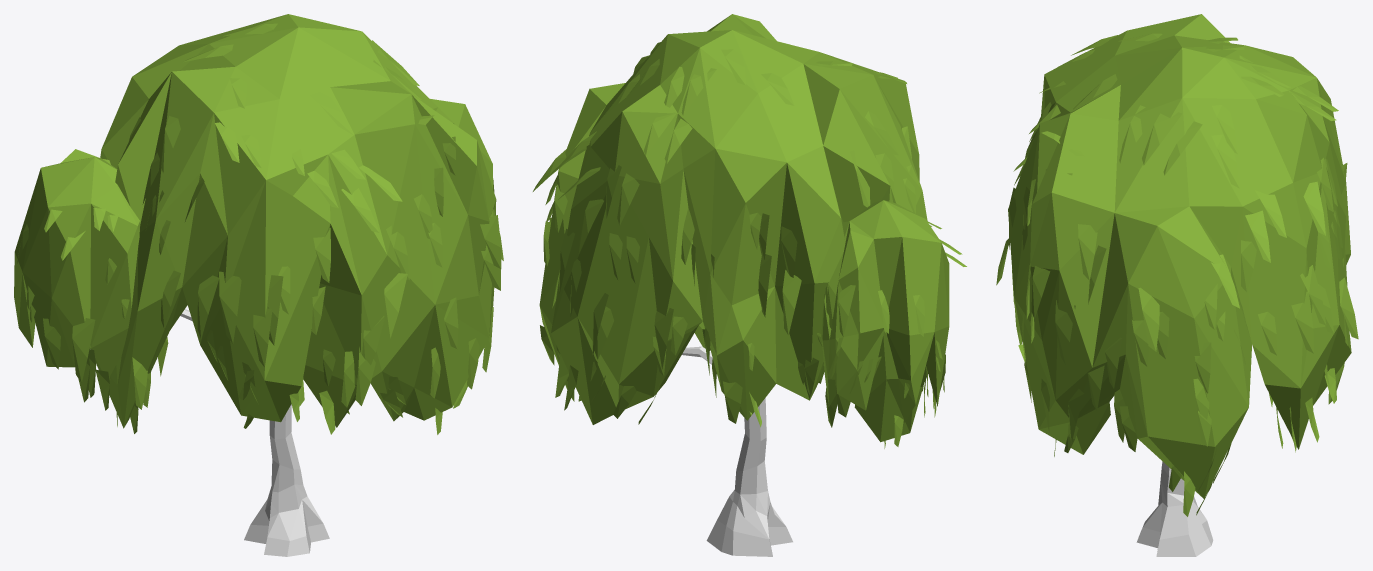
File: SM_Tree_Willow_Weeping_Young_A.fbx
The picture shows the model from 3 angles, left to right: view 1: azimuth 30°, elevation 25°; view 2: azimuth 150°, elevation 25°; view 3: azimuth 270°, elevation 25°; orthographic projection.
Visible parts, largest first — view 1: tree-willow-weeping-young-a; view 2: tree-willow-weeping-young-a; view 3: tree-willow-weeping-young-a.
Boxes of the visible parts, <box> form: tree-willow-weeping-young-a: <box>14,14,503,556</box>; tree-willow-weeping-young-a: <box>533,14,966,556</box>; tree-willow-weeping-young-a: <box>996,14,1358,556</box>.
Bounding box in the file's own units: 3.37 × 3.86 × 2.53.
